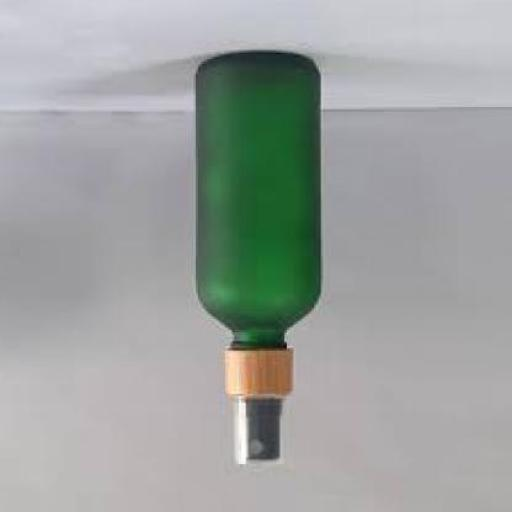glass: (195, 57, 326, 353)
plastic: (225, 351, 298, 466)
